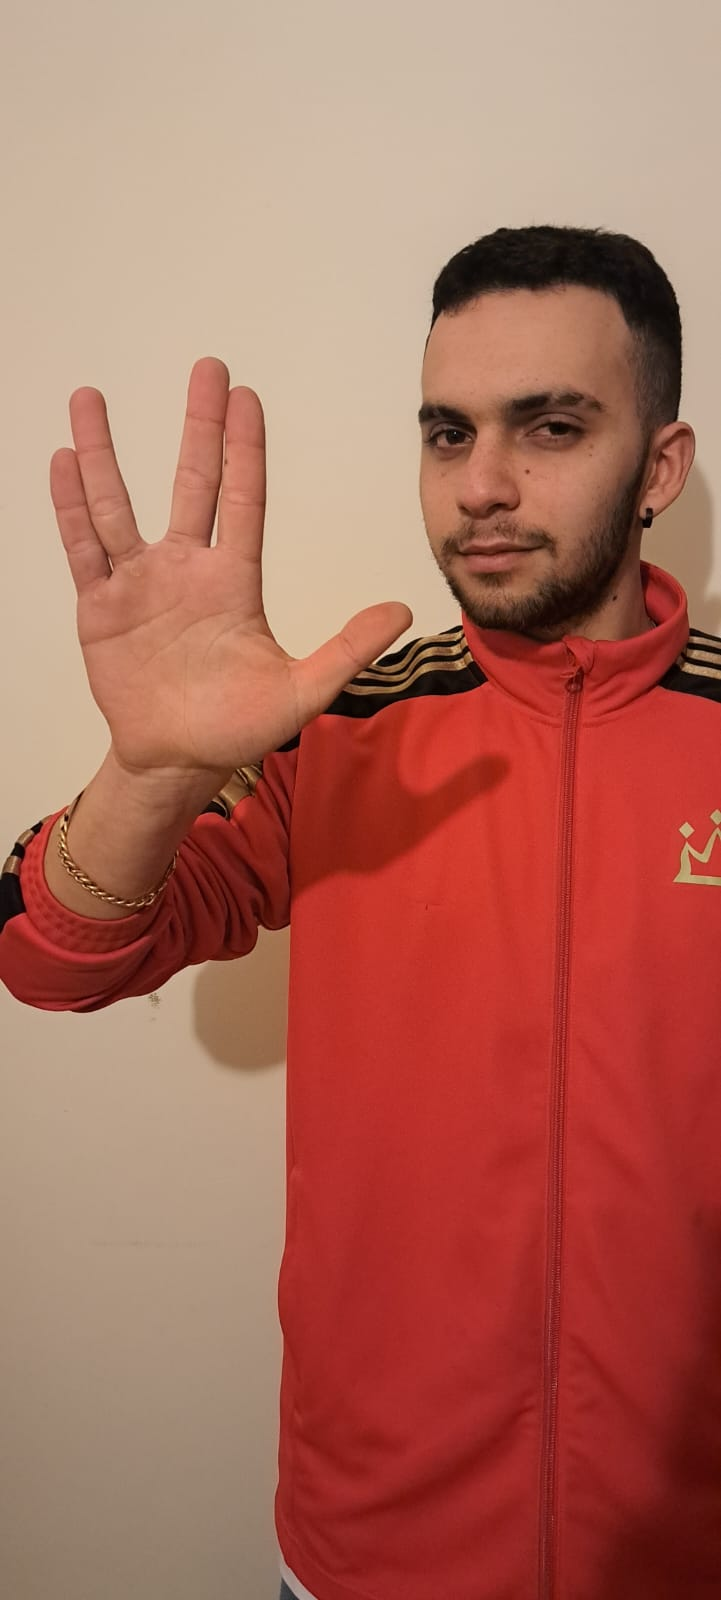alien: (41, 351, 420, 776)
